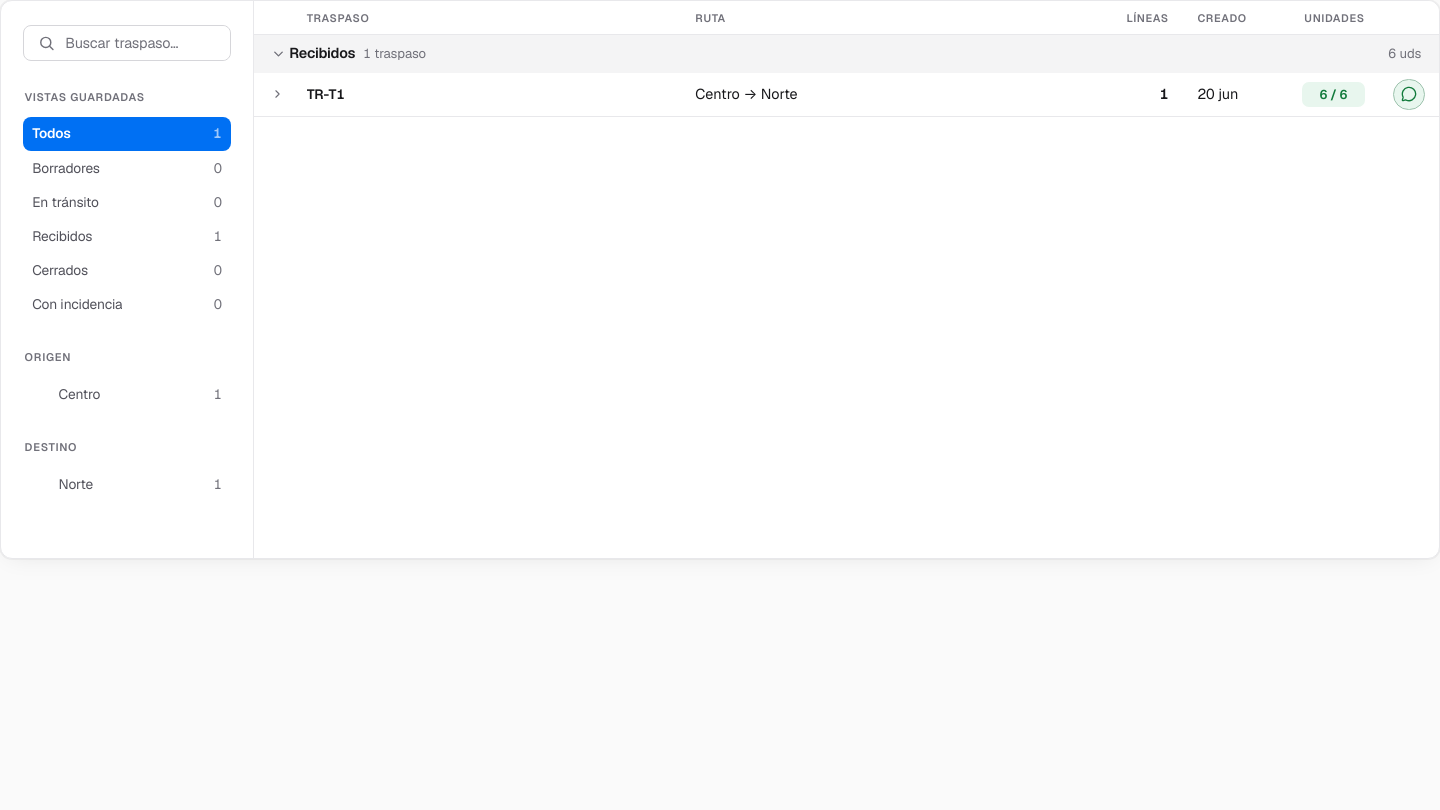
Test: TransfersSection v2 — grupos, detalle en línea y ciclo de vida › muestra «Todo en perfecto estado» cuando la recepción no tuvo incidencias
Click the row with test id "transfer-row" at {"x": 846, "y": 95}, box [254, 73, 1439, 117]
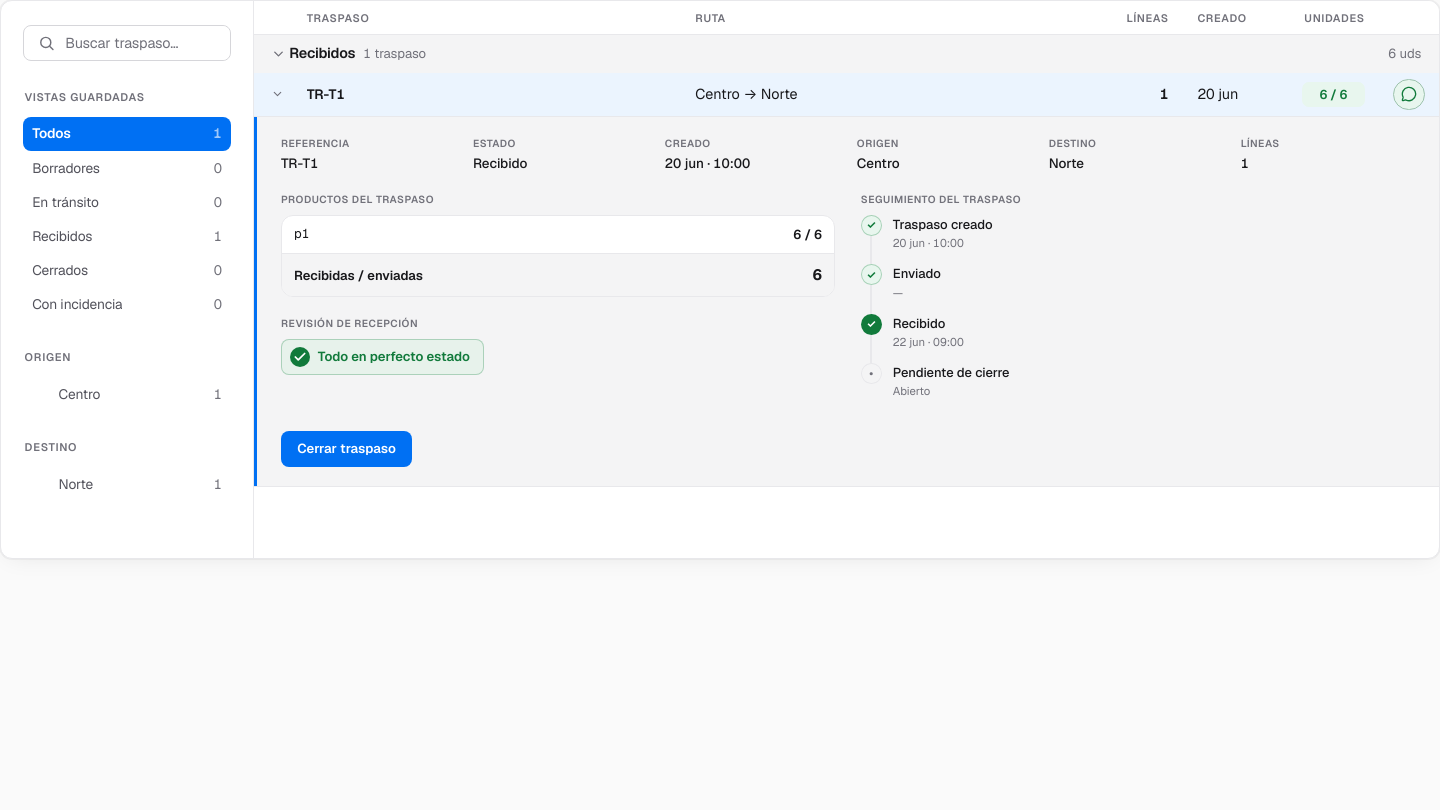
Expected: the element with test id "transfer-review-ok" reads "Todo en perfecto estado", [318, 348, 470, 365]
